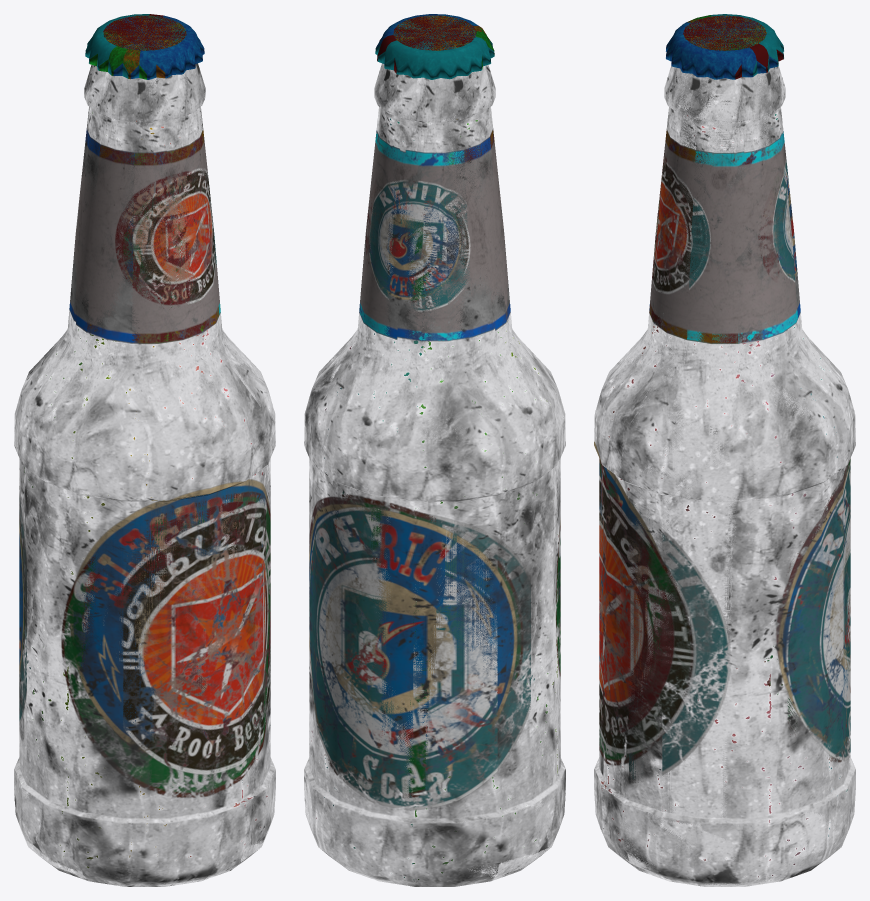
The model's file is bottles.glb.
The picture shows the model from 3 angles, left to right: view 1: azimuth 30°, elevation 25°; view 2: azimuth 150°, elevation 25°; view 3: azimuth 270°, elevation 25°; orthographic projection.
Visible parts, largest first — view 1: phd, doubletap, juggernog, speedcola, quickrevive; view 2: phd, quickrevive, speedcola, juggernog, doubletap; view 3: phd, quickrevive, doubletap, juggernog, speedcola.
Boxes of the visible parts, <box> form: phd: <box>14,15,275,886</box>; doubletap: <box>42,15,275,883</box>; juggernog: <box>18,14,275,885</box>; speedcola: <box>16,15,271,874</box>; quickrevive: <box>19,14,270,817</box>; phd: <box>305,14,565,886</box>; quickrevive: <box>305,16,546,877</box>; speedcola: <box>304,16,564,879</box>; juggernog: <box>304,15,564,856</box>; doubletap: <box>313,15,565,819</box>; phd: <box>594,16,855,885</box>; quickrevive: <box>602,14,851,879</box>; doubletap: <box>597,15,823,885</box>; juggernog: <box>597,15,850,885</box>; speedcola: <box>597,15,850,880</box>.
Bounding box in the file's own units: 0.0774 × 0.27 × 0.0785.
Materials: 5 (5 with a texture image).
